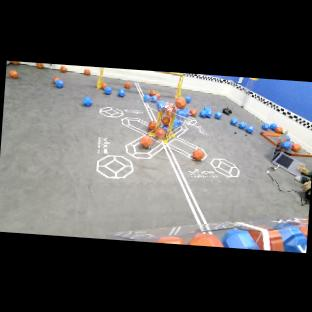Autolimit: (162, 140, 206, 223), (143, 100, 156, 120), (134, 81, 142, 98)
V5_BLUE: (136, 216, 308, 252), (187, 226, 284, 251), (96, 66, 110, 93), (156, 236, 184, 244), (293, 226, 307, 240), (143, 92, 164, 101), (157, 128, 172, 139), (283, 141, 300, 150), (199, 105, 212, 116), (192, 148, 203, 160), (140, 134, 151, 146), (52, 75, 62, 86), (278, 134, 289, 143), (82, 96, 92, 105), (262, 122, 275, 128), (178, 95, 190, 101), (186, 108, 196, 115), (238, 120, 246, 128), (104, 85, 111, 93), (246, 124, 253, 131), (83, 67, 90, 74), (35, 61, 43, 67), (230, 117, 237, 123), (214, 111, 221, 117), (59, 65, 66, 71), (151, 127, 157, 134), (118, 88, 124, 95), (223, 107, 231, 112), (157, 126, 165, 131), (289, 227, 293, 237), (274, 126, 280, 131), (281, 227, 290, 230)
V5_RED: (140, 99, 185, 146), (96, 66, 107, 88), (146, 88, 159, 99), (175, 96, 186, 108), (192, 148, 203, 159), (189, 108, 196, 115), (60, 65, 66, 71), (83, 68, 89, 74), (124, 81, 130, 87)
